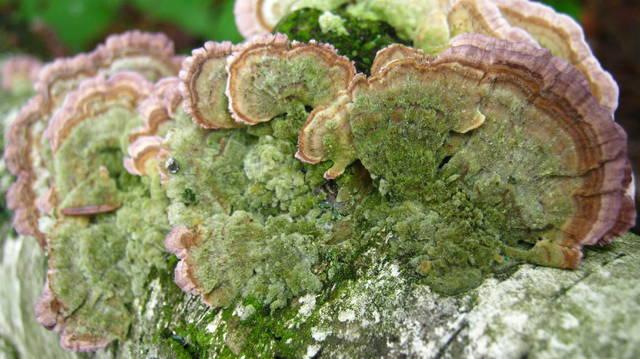poisonous_mushroom: (3, 1, 636, 353)
